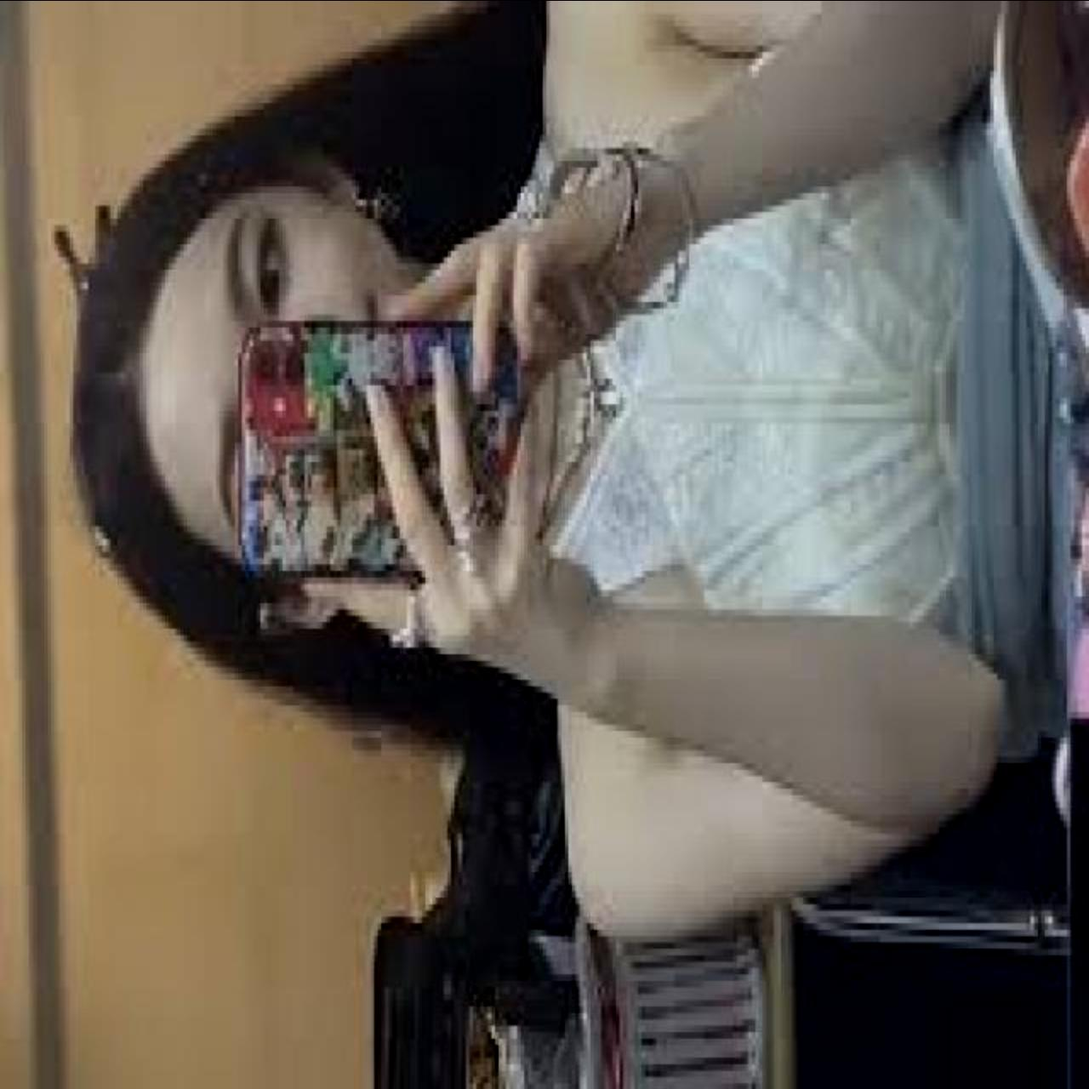phone: (235, 315, 538, 585)
